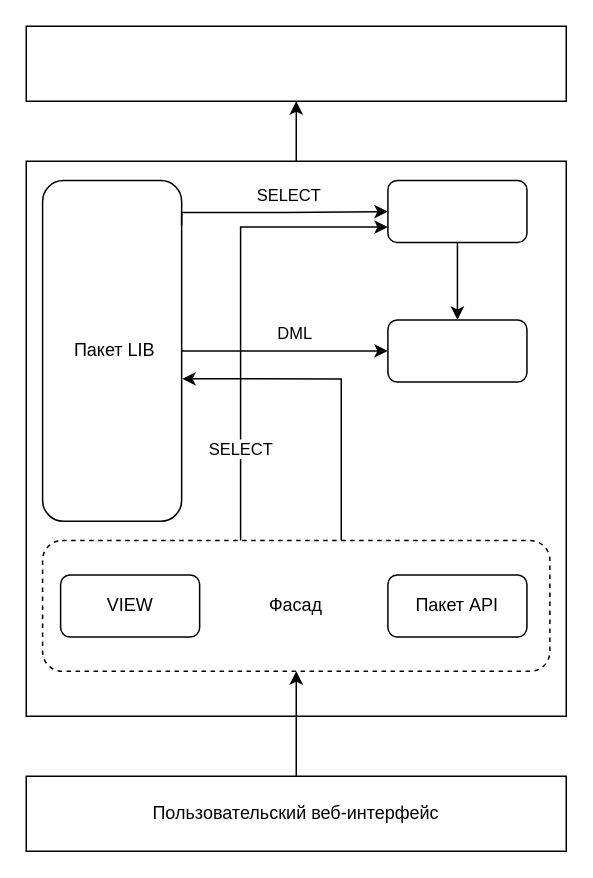
Some shapes in this 593 by 878 pixel diagram are drawn without their labels. The centre of each missing label's shape, as x and y in pixels:
"TAPI" belongs at [456,350].
"Общие библиотеки LIB для всех подсистем" belongs at [295,63].
"Таблицы" belongs at [456,211].
